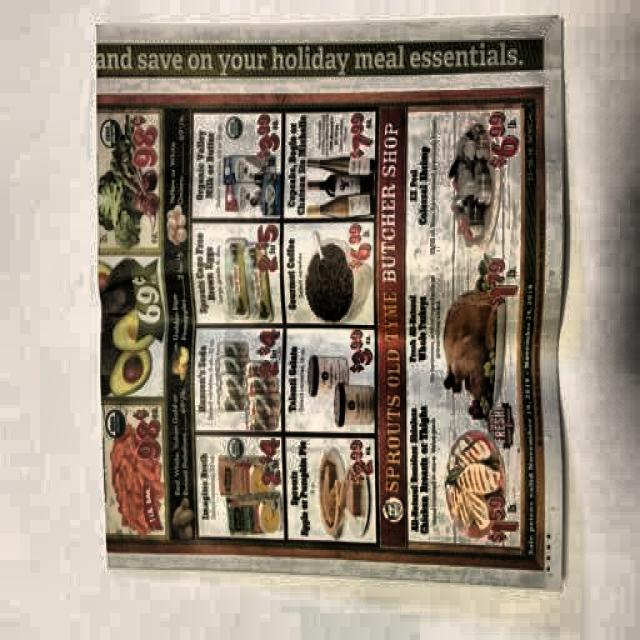paper: (96, 22, 569, 591)
